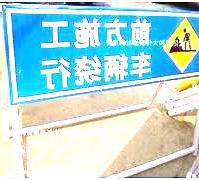sign: (1, 4, 199, 104)
